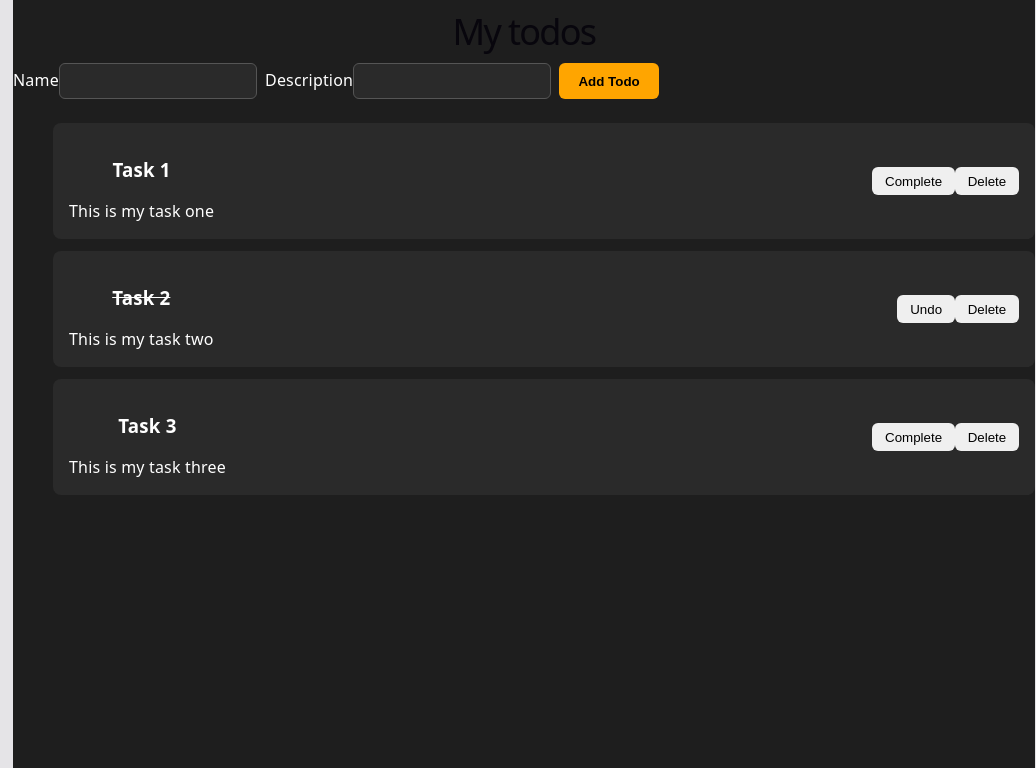
it: App (integration) › Delete task after press the Delete button
The width and height of the screenshot is (1036, 768).
Expected: the heading "Task 1" is shown, [112,157,171,182]
Click the button named "delete task \"task 1\"" at (987, 181), box [955,167,1019,195]
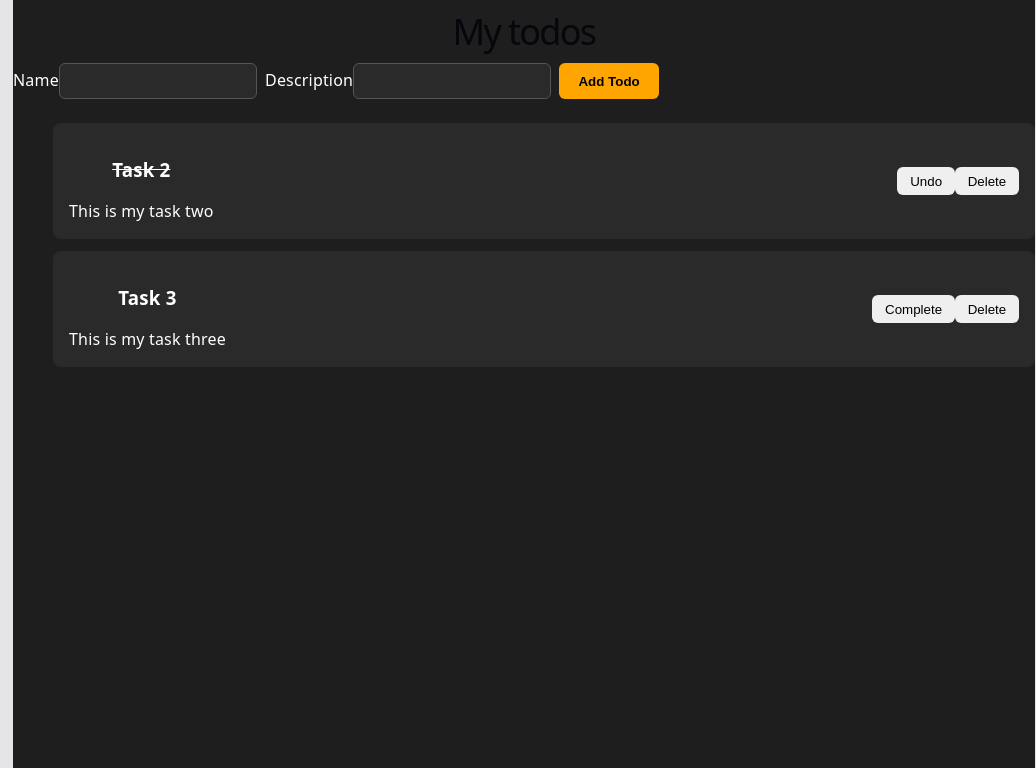
Expected: the heading "Task 1" is gone
